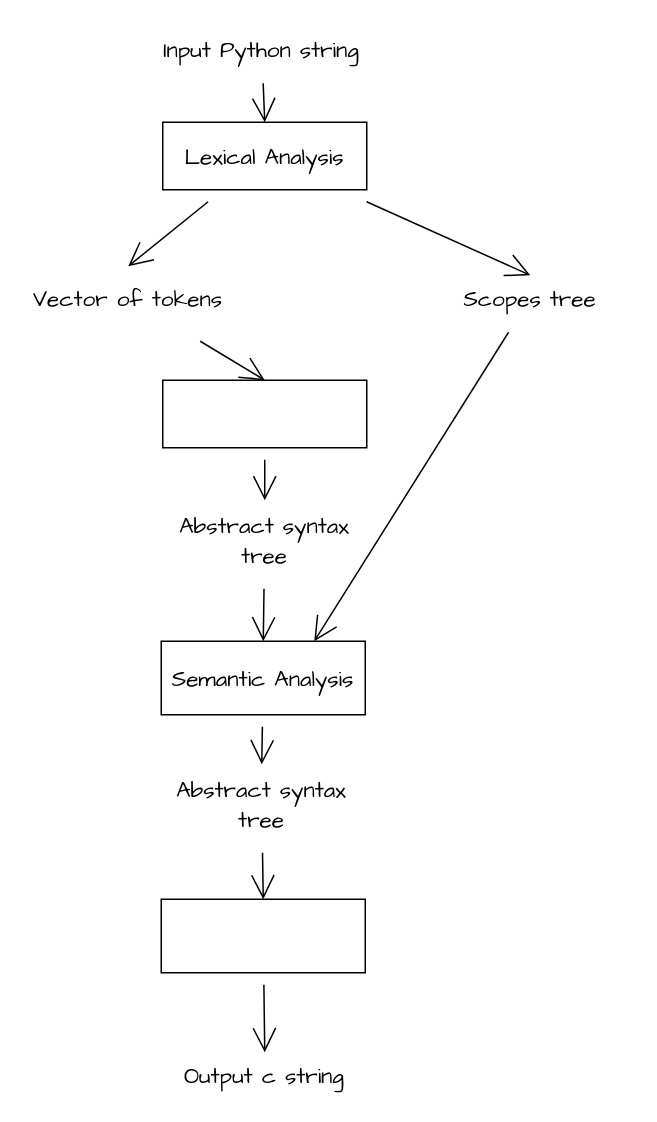
This 657x1122 diagram has some shape labels left out. The centre of each missing label's shape, as x and y in pixels:
"Code Generating" belongs at (x=262, y=935).
"Syntax Analysis" belongs at (x=264, y=413).
